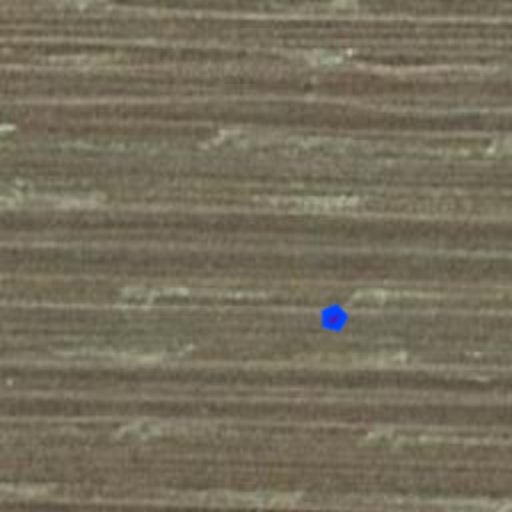pentagon: (312, 296, 356, 340)
